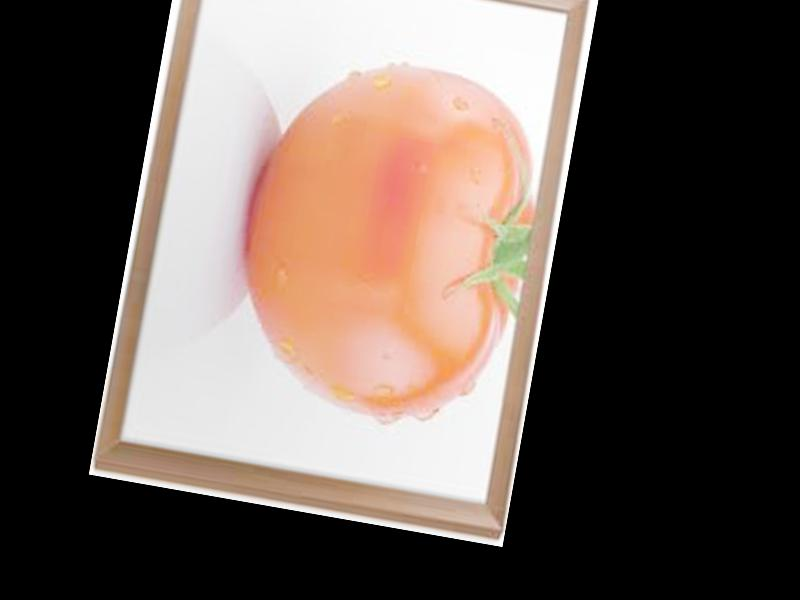Tomato: (219, 43, 557, 438)
